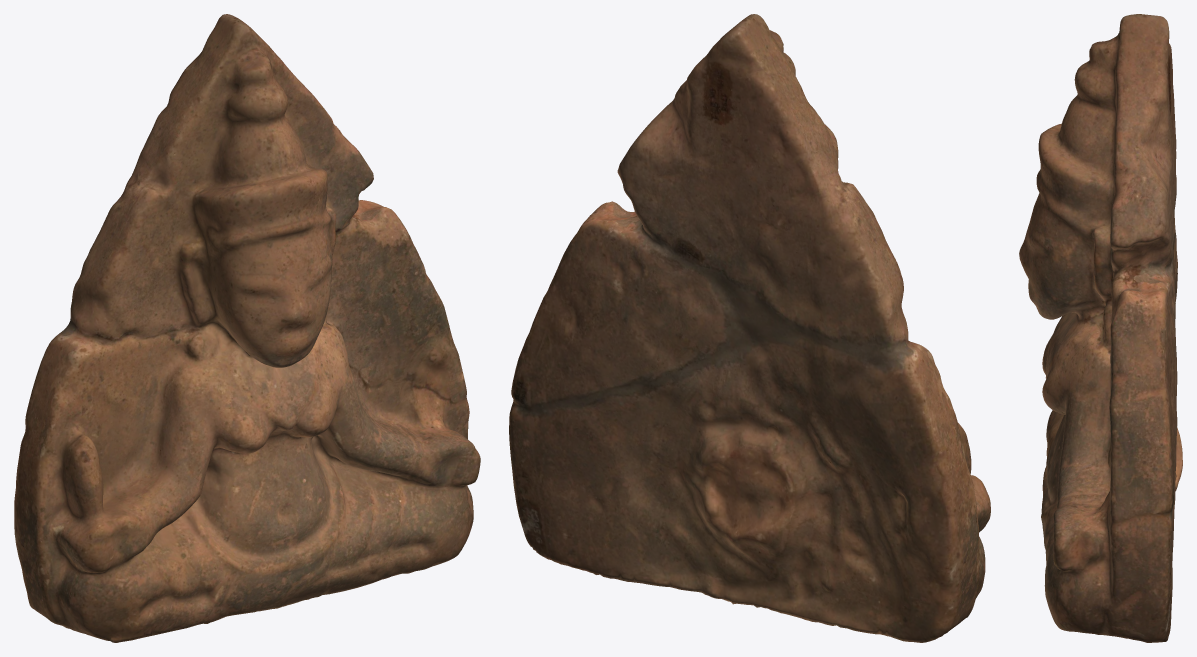
The model's file is MysonMuseum_laksmi_final.glb.
3 views of the same model, side by side, from view 1: azimuth 30°, elevation 25°; view 2: azimuth 150°, elevation 25°; view 3: azimuth 270°, elevation 25° (orthographic). The views are drawn at different scales.
Bounding box in the file's own units: 0.3259 × 0.4051 × 0.1106.
Materials: 1 (1 with a texture image).
